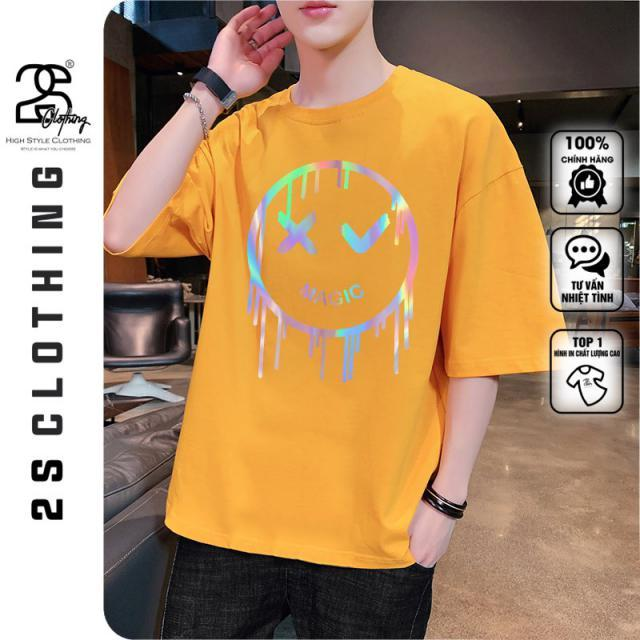Shirt: (104, 54, 588, 574)
